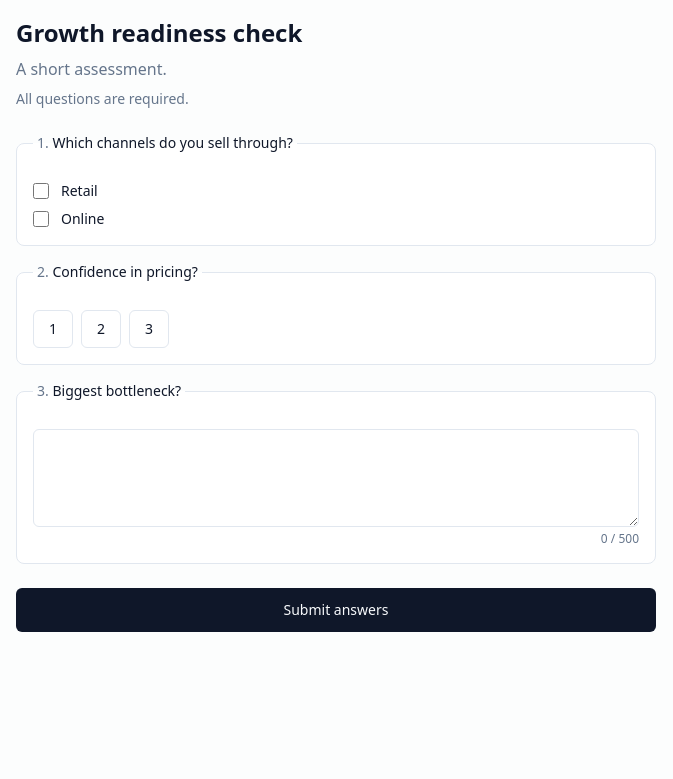
PublicQuestionnairePage › maps a backend 422 back onto the individual questions
Expected: the heading "Growth readiness check" is shown, [16,16,302,49]
Click the checkbox labelled "Online": click(41, 219) [33,211,49,227]
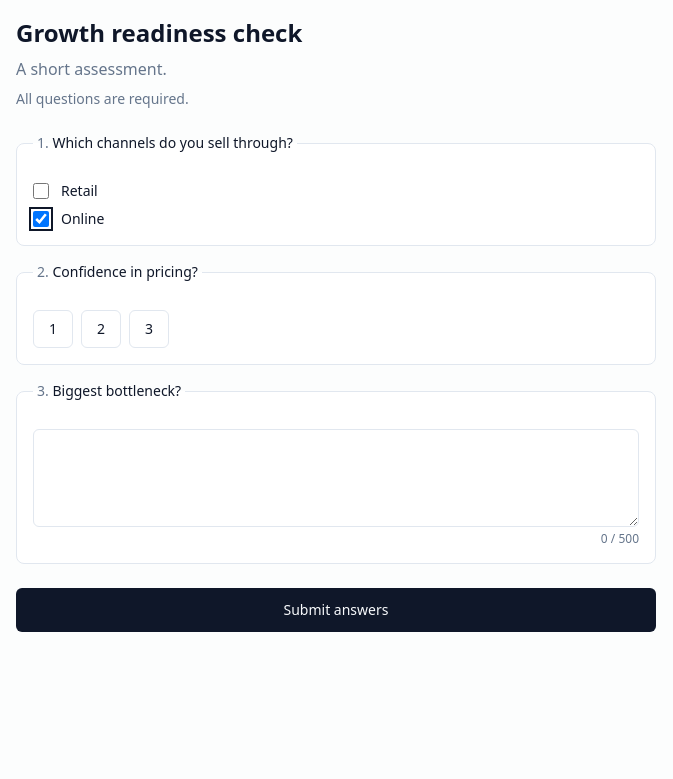
Click the radio button labelled "2": click(101, 329) [81,310,121,348]
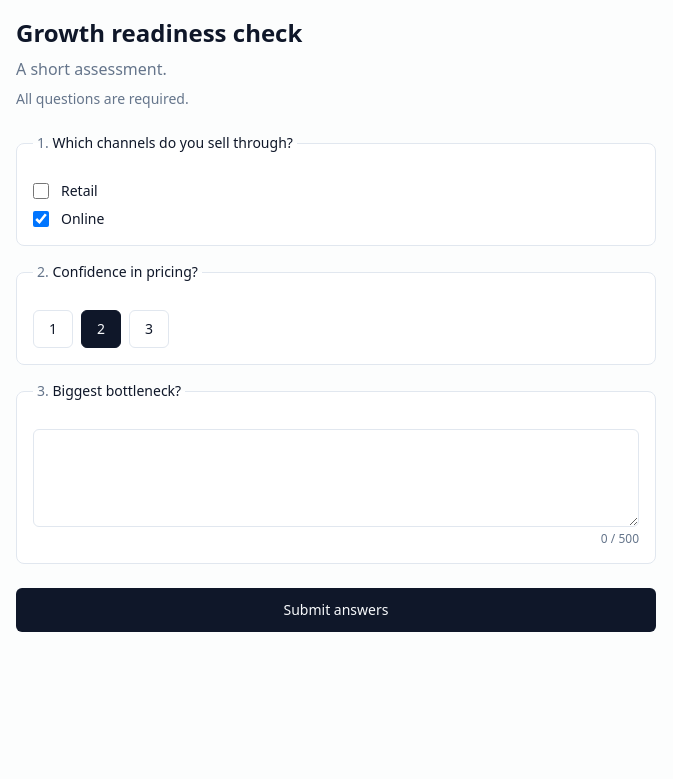
In the text box: (336, 478) [33,429,639,527], type "Hiring is slow."
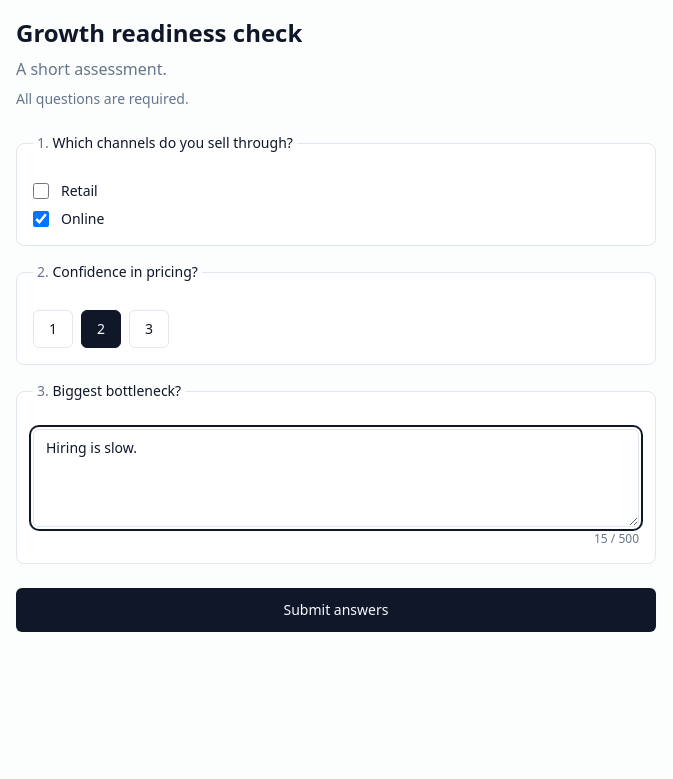
Click the button "Submit answers": click(336, 610) [16,588,656,632]
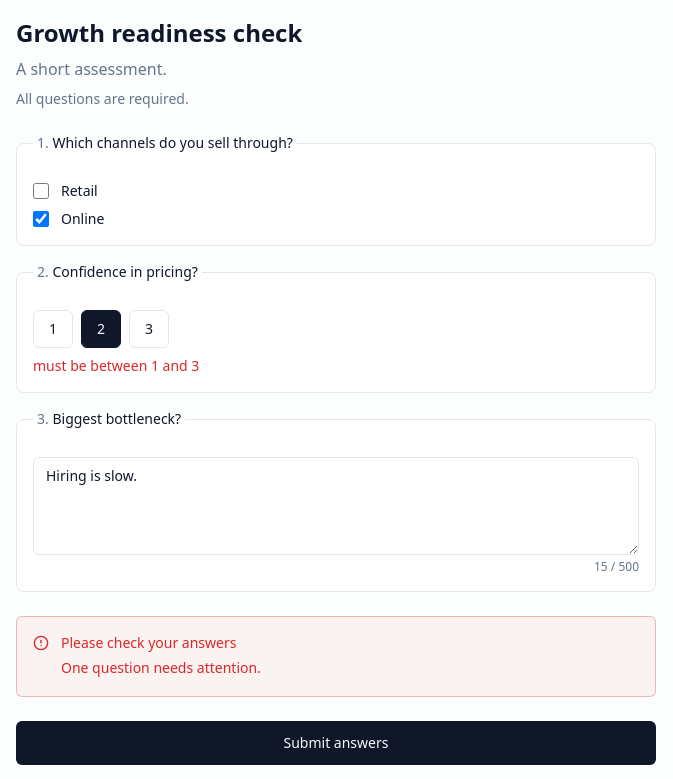
Expected: the text "must be between 1 and 3" is shown, [33,356,199,375]
